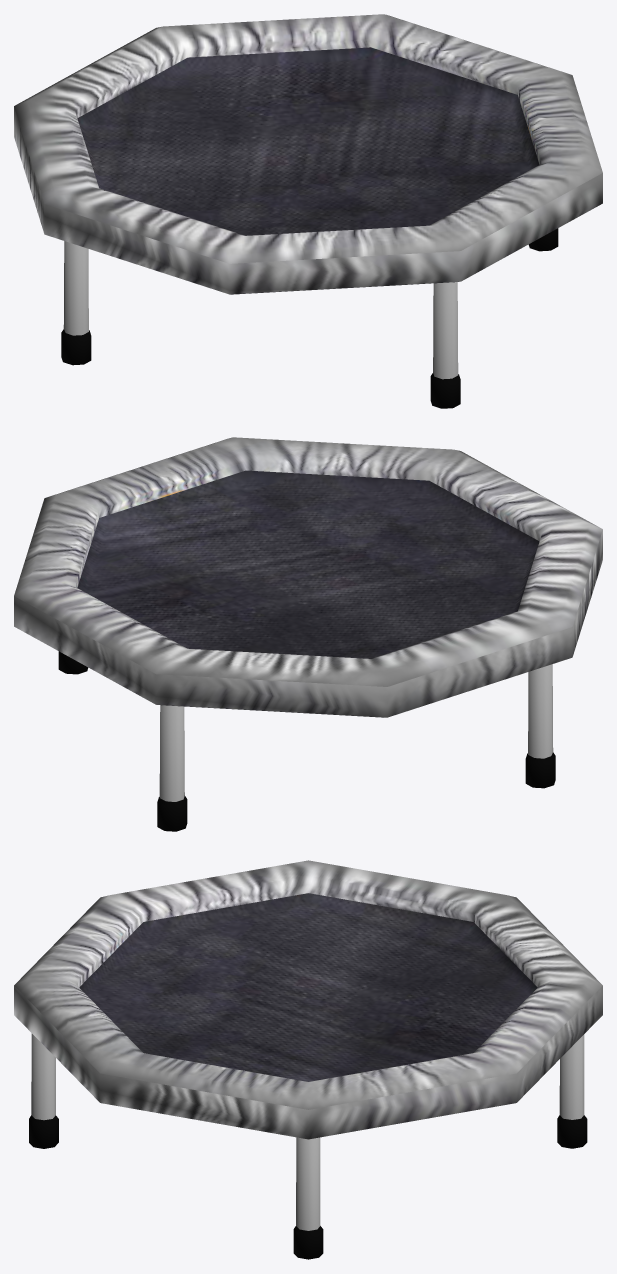
The model's file is Trampoline.fbx.
The picture shows the model from 3 angles, top to bottom: view 1: azimuth 30°, elevation 25°; view 2: azimuth 150°, elevation 25°; view 3: azimuth 270°, elevation 25°; orthographic projection. The views are drawn at different scales.
Visible parts, largest first — view 1: Trampolin, Leg.002, Leg; view 2: Trampolin, Leg.003, Leg; view 3: Trampolin, Leg.001, Leg.003, Leg.002.
Part boxes in pixels (x1,y1,x2,y2): Trampolin: (14, 14, 602, 294); Leg.002: (430, 282, 460, 408); Leg: (61, 241, 91, 365); Trampolin: (14, 437, 602, 717); Leg.003: (157, 705, 187, 831); Leg: (525, 664, 555, 788); Trampolin: (14, 860, 602, 1139); Leg.001: (293, 1137, 323, 1259); Leg.003: (557, 1034, 587, 1148); Leg.002: (29, 1033, 58, 1148).
Bounding box in the file's own units: 200 × 61.66 × 200.
Materials: 3 (1 with a texture image).
